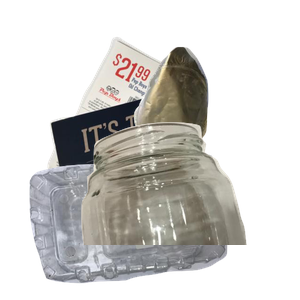glass: (74, 120, 300, 300)
paper: (45, 34, 230, 214)
plastic: (27, 152, 247, 300)
trash: (131, 44, 300, 189)
